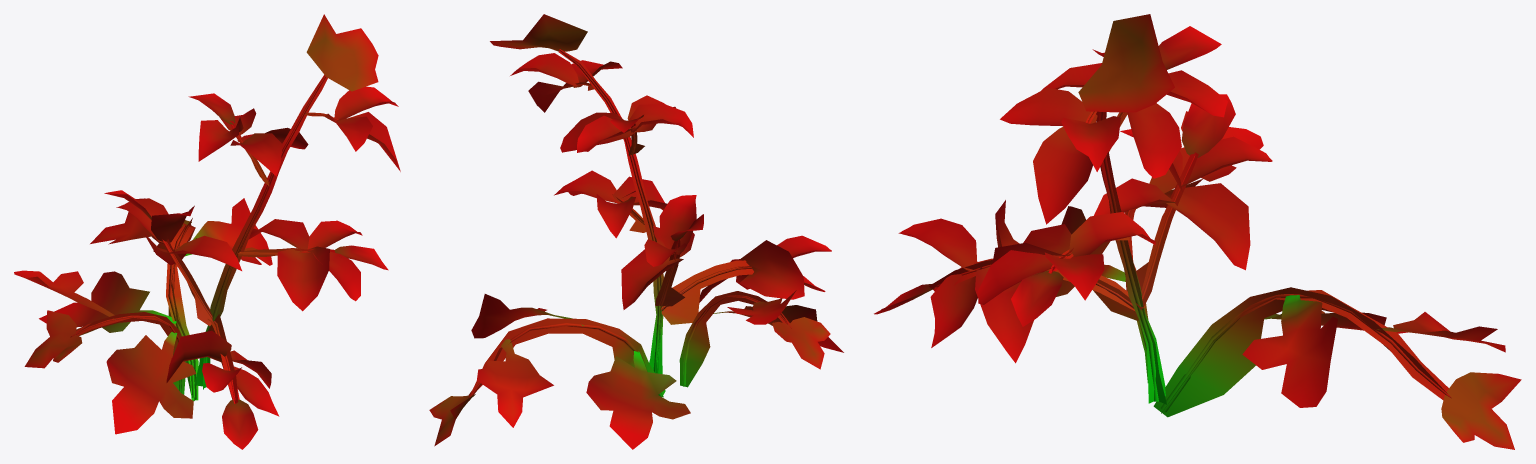
Rendered from Blackberry_LOD0_Var7_vkmofctha.fbx.
The picture shows the model from 3 angles, left to right: view 1: azimuth 30°, elevation 25°; view 2: azimuth 150°, elevation 25°; view 3: azimuth 270°, elevation 25°; orthographic projection. The views are drawn at different scales.
Parts seen in each view (by area): view 1: _lo6p_Var7_LOD0; view 2: _lo6p_Var7_LOD0; view 3: _lo6p_Var7_LOD0.
Part boxes in pixels (bbox=[...]): _lo6p_Var7_LOD0: bbox=[14, 14, 400, 449]; _lo6p_Var7_LOD0: bbox=[429, 14, 843, 449]; _lo6p_Var7_LOD0: bbox=[874, 14, 1521, 449].
Bounding box in the file's own units: 44.38 × 44.37 × 53.79.
